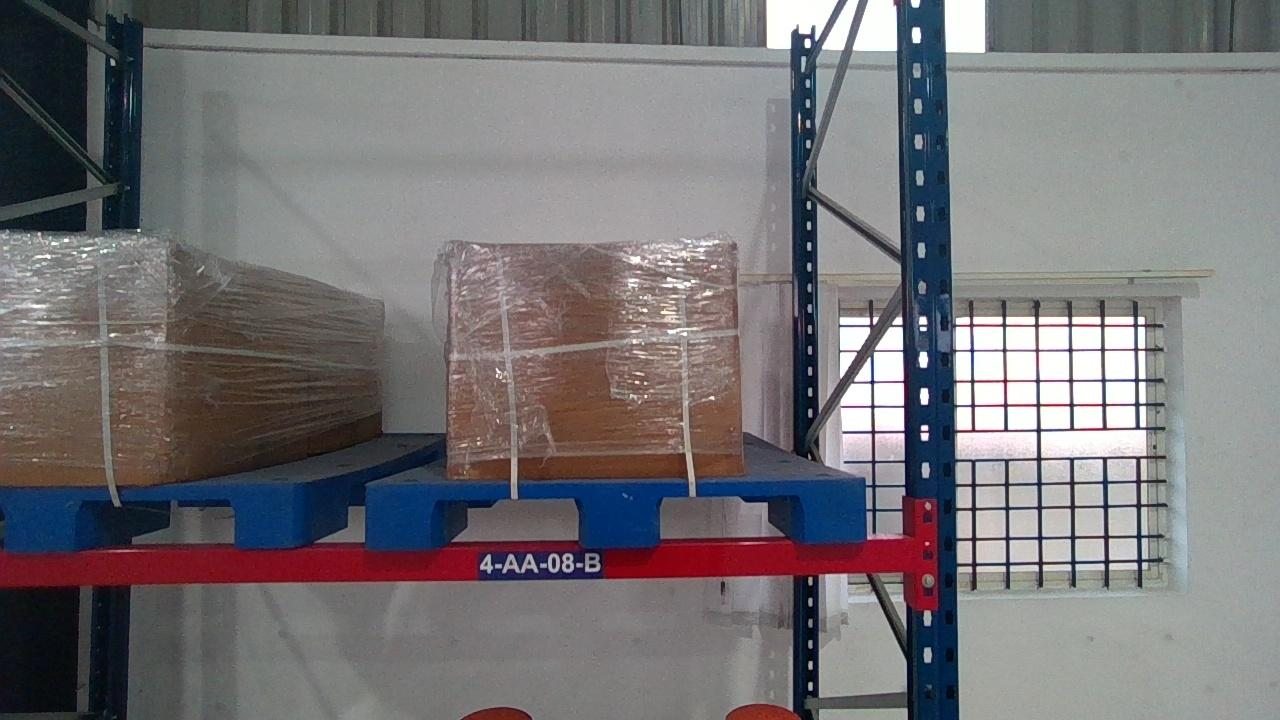h_rack: (4, 541, 918, 581)
small_pallet: (362, 479, 868, 544), (0, 484, 304, 543)
